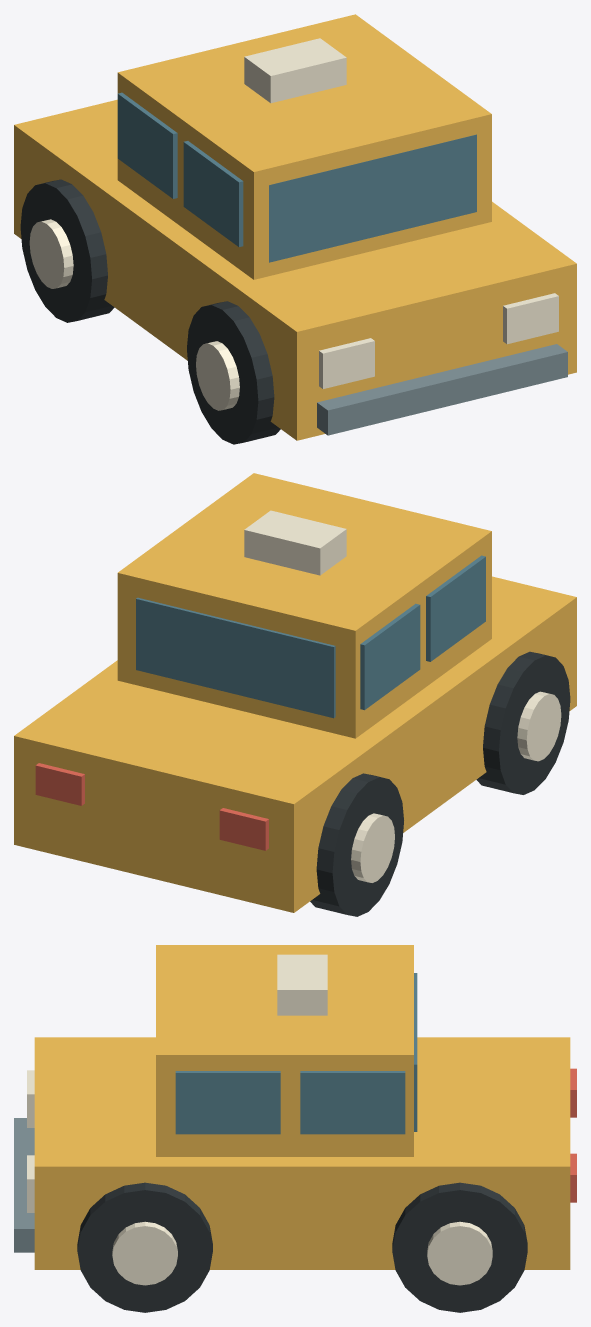
The model's file is taxi.glb.
3 renders of one model, top to bottom at view 1: azimuth 30°, elevation 25°; view 2: azimuth 150°, elevation 25°; view 3: azimuth 270°, elevation 25°, orthographic. The views are drawn at different scales.
Parts seen in each view (by area): view 1: Chassis.001, Cabin.001, Front windshield.001, Bumper.001, Wheel.004, Wheel.005, Taxi lamp, Side glass.005, Side glass.004, Hub.005, Hub.004, Headlamp.003 (+1 smaller); view 2: Chassis.001, Cabin.001, Rear windshield.001, Wheel.004, Wheel.005, Taxi lamp, Side glass.005, Side glass.004, Hub.005, Hub.004, Tail light.002, Tail light.003; view 3: Chassis.001, Cabin.001, Wheel.007, Wheel.006, Side glass.006, Side glass.007, Hub.007, Hub.006, Taxi lamp, Bumper.001, Rear windshield.001.
Part boxes in pixels (x1,y1,x2,y2): Chassis.001: (14, 99, 576, 440); Cabin.001: (117, 14, 491, 279); Front windshield.001: (269, 134, 476, 262); Bumper.001: (317, 344, 567, 435); Wheel.004: (187, 301, 280, 444); Wheel.005: (20, 179, 114, 322); Taxi lamp: (244, 38, 346, 103); Side glass.005: (117, 92, 177, 198); Side glass.004: (183, 141, 243, 246); Hub.005: (29, 219, 73, 288); Hub.004: (196, 341, 239, 410); Headlamp.003: (503, 293, 558, 344); Chassis.001: (14, 576, 576, 912); Cabin.001: (117, 473, 491, 738); Rear windshield.001: (136, 597, 335, 718); Wheel.004: (476, 651, 570, 794); Wheel.005: (310, 773, 403, 916); Taxi lamp: (244, 510, 346, 575); Side glass.005: (360, 603, 420, 710); Side glass.004: (426, 555, 485, 661); Hub.005: (351, 813, 394, 882); Hub.004: (517, 691, 561, 761); Tail light.002: (219, 808, 268, 850); Tail light.003: (35, 763, 84, 805); Chassis.001: (34, 1037, 570, 1269); Cabin.001: (156, 945, 413, 1156); Wheel.007: (392, 1182, 527, 1312); Wheel.006: (77, 1182, 212, 1312); Side glass.006: (175, 1071, 280, 1134); Side glass.007: (300, 1071, 405, 1134); Hub.007: (427, 1221, 492, 1285); Hub.006: (112, 1221, 177, 1285); Taxi lamp: (277, 954, 327, 1015); Bumper.001: (14, 1118, 34, 1252); Rear windshield.001: (414, 973, 417, 1131).
Size of the model in its own units: 1.65 by 1.35 by 2.57.
